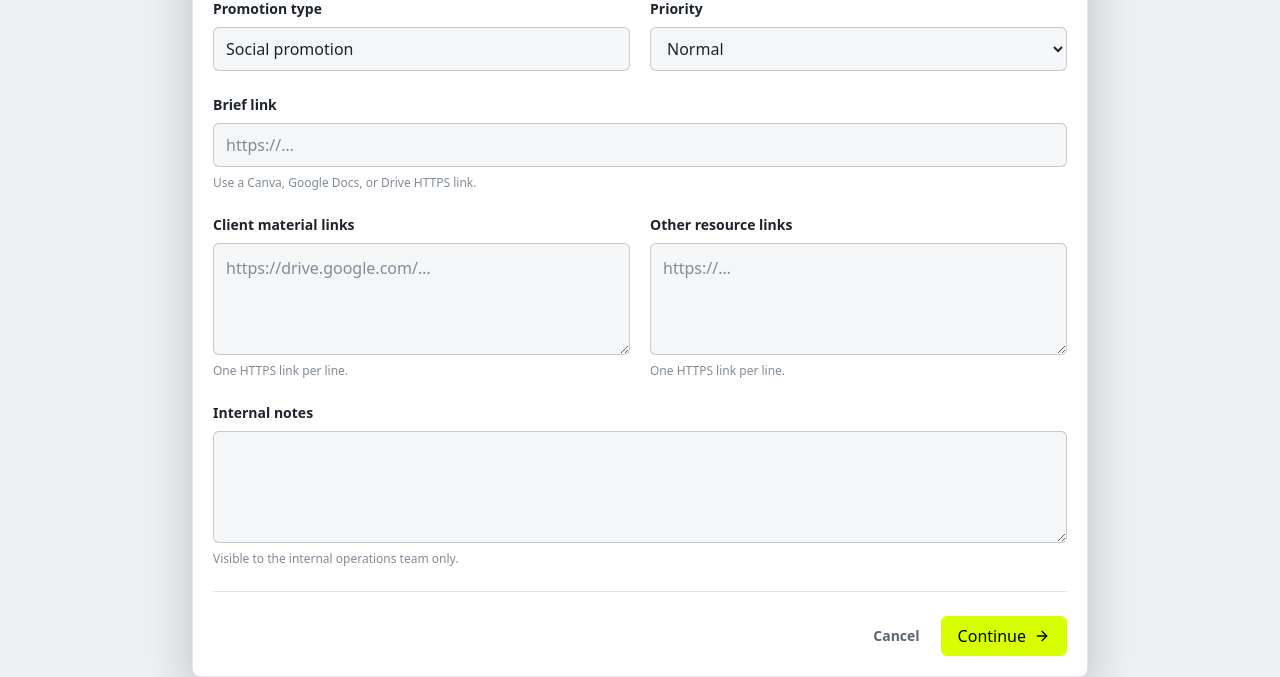
it: create promotion steps › stays on the details step when required fields are missing
This screenshot has width=1280, height=677.
(page scrolled)
Step 1. Click the button "Continue" → (1004, 636), box x1=941 y1=616 x2=1067 y2=656
(page scrolled)
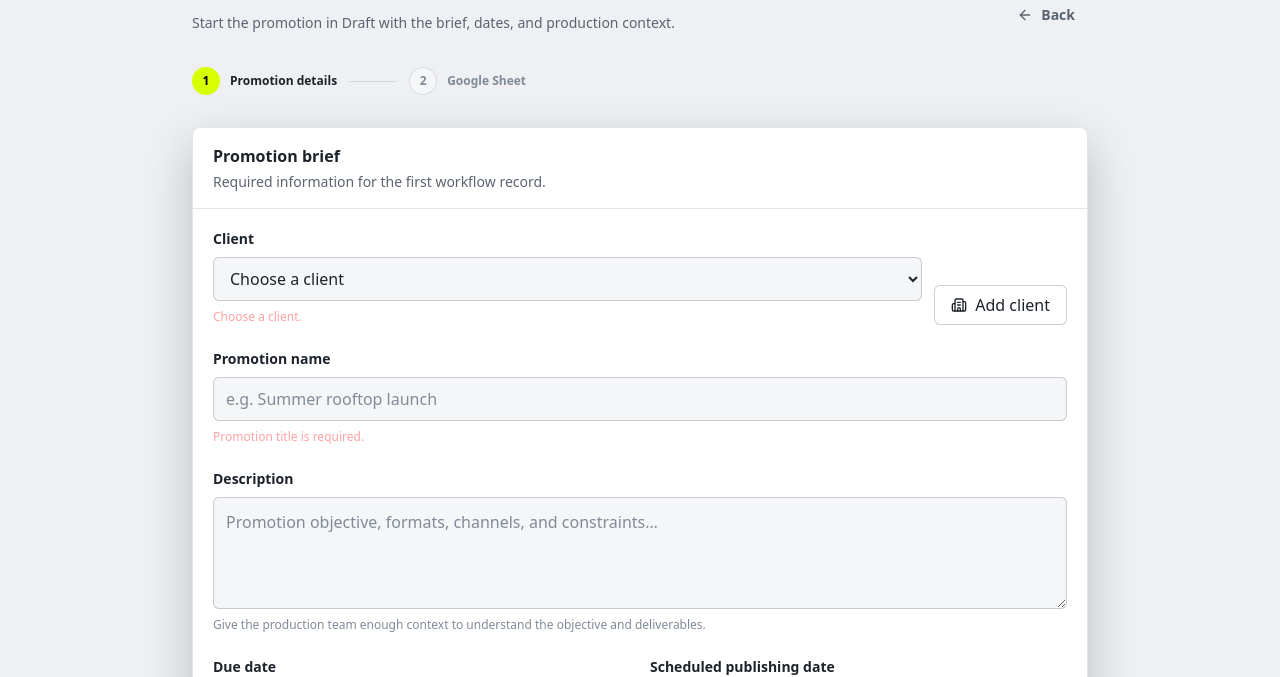
Now the text "Choose a client." is shown, box x1=213 y1=308 x2=302 y2=325
